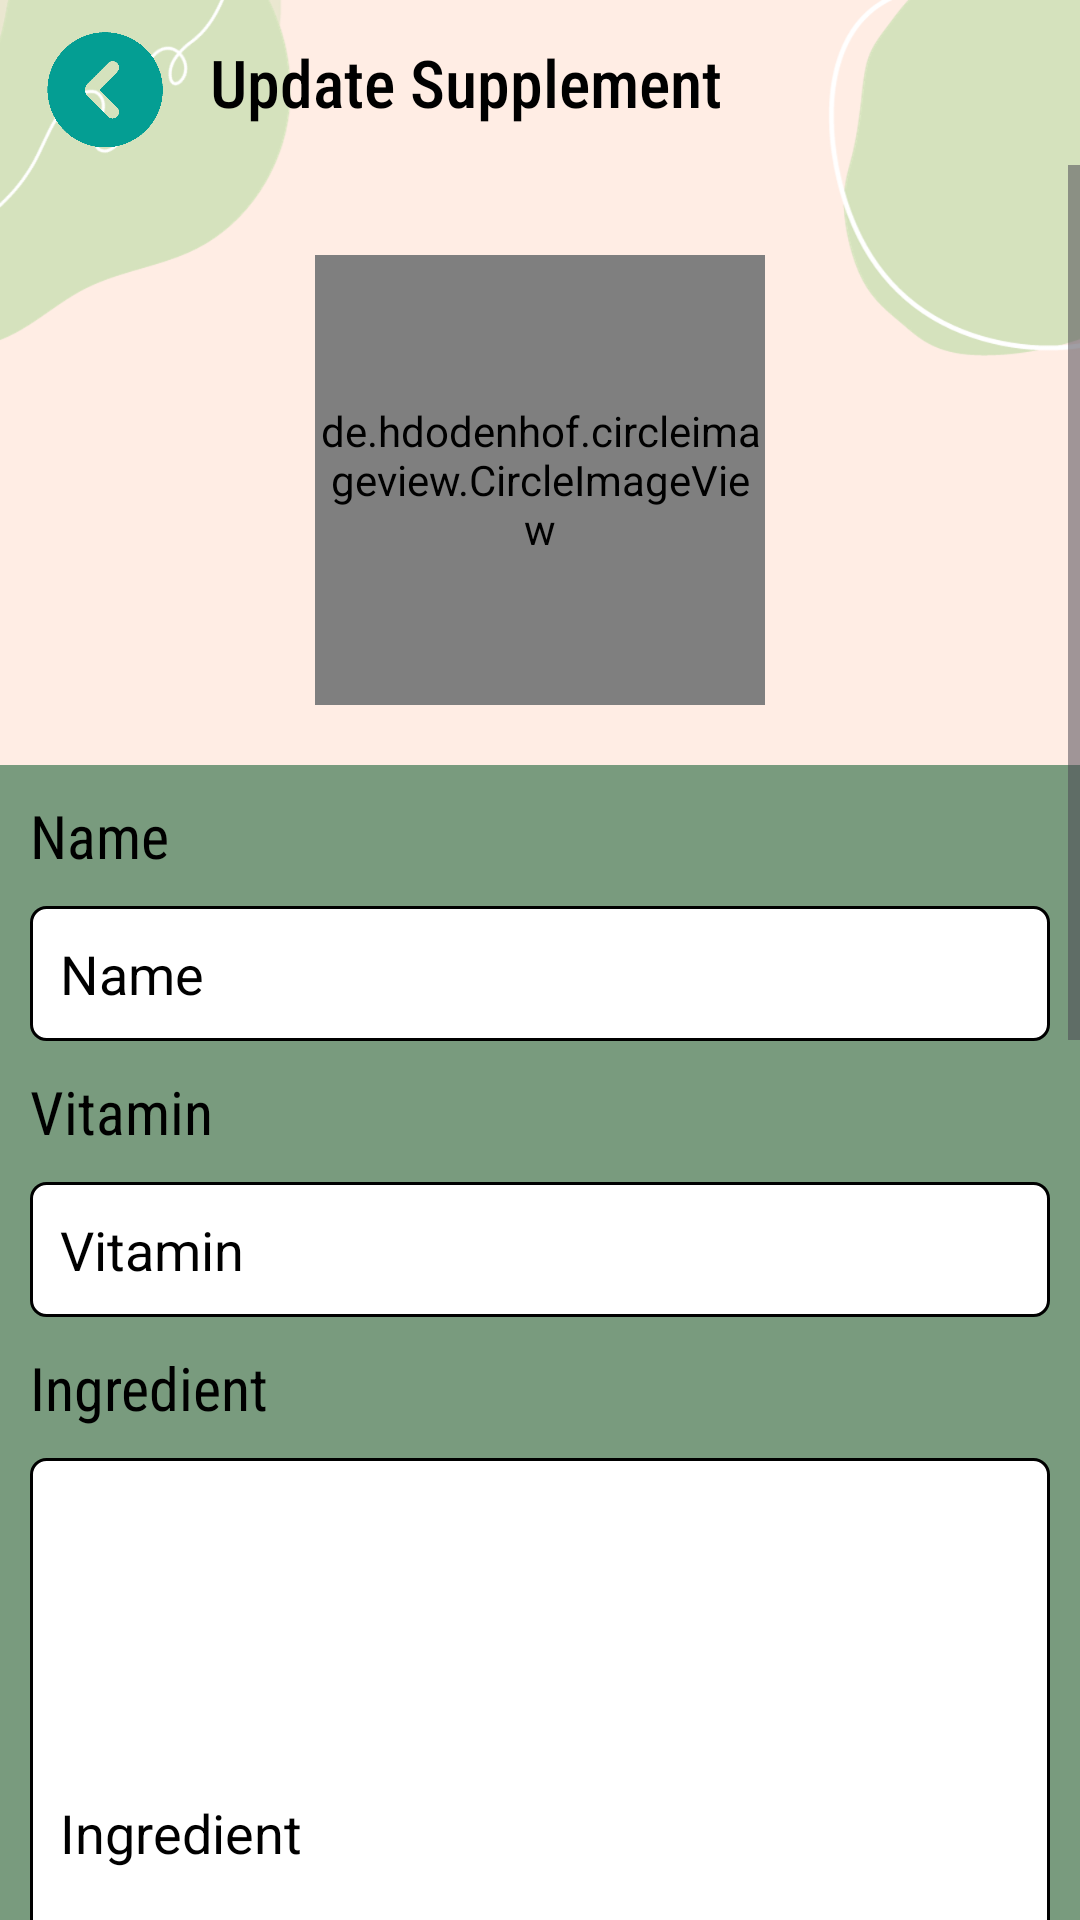

Icons on this 1080 × 1920 Android screen, each with its box as (x1, y1, x2, y2):
backicon: (45, 32, 165, 150)
